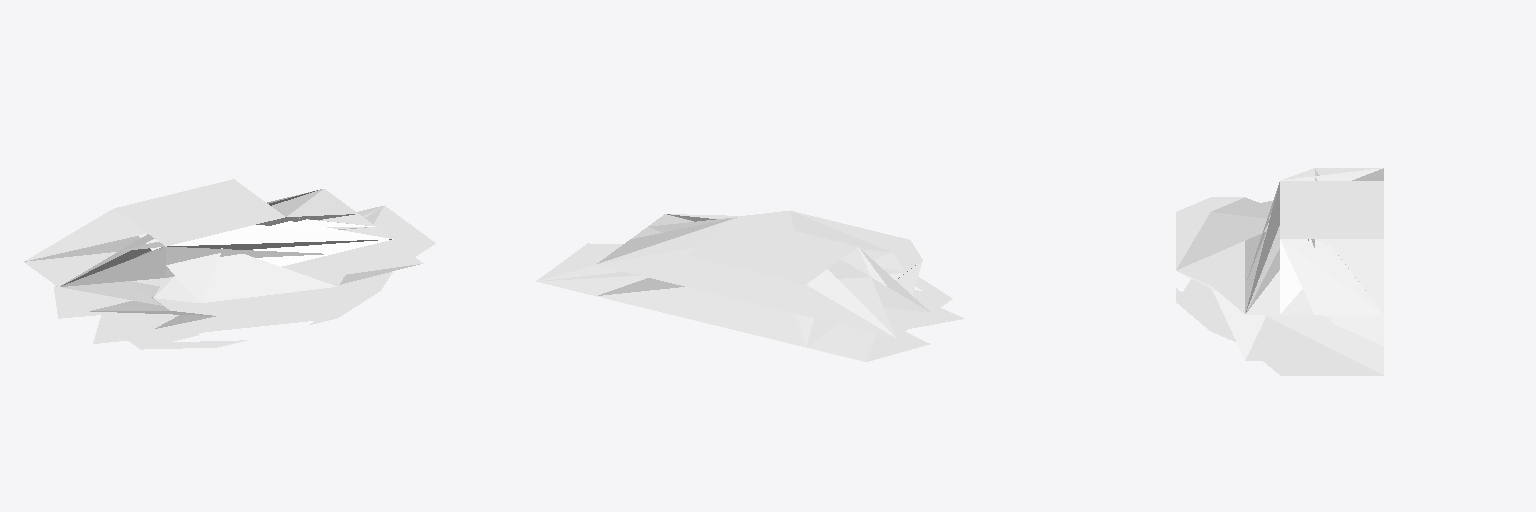
The model's file is Rubble3.obj.
3 views of the same model, side by side, from view 1: azimuth 30°, elevation 25°; view 2: azimuth 150°, elevation 25°; view 3: azimuth 270°, elevation 25° (orthographic).
Size of the model in its own units: 12 by 2 by 6.